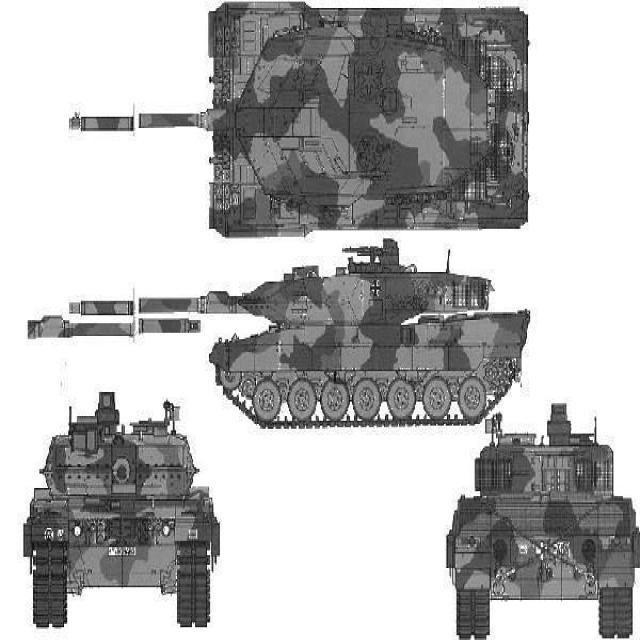MIL_MBT: (14, 12, 566, 262), (10, 205, 573, 440), (11, 379, 226, 627), (408, 374, 577, 627)
